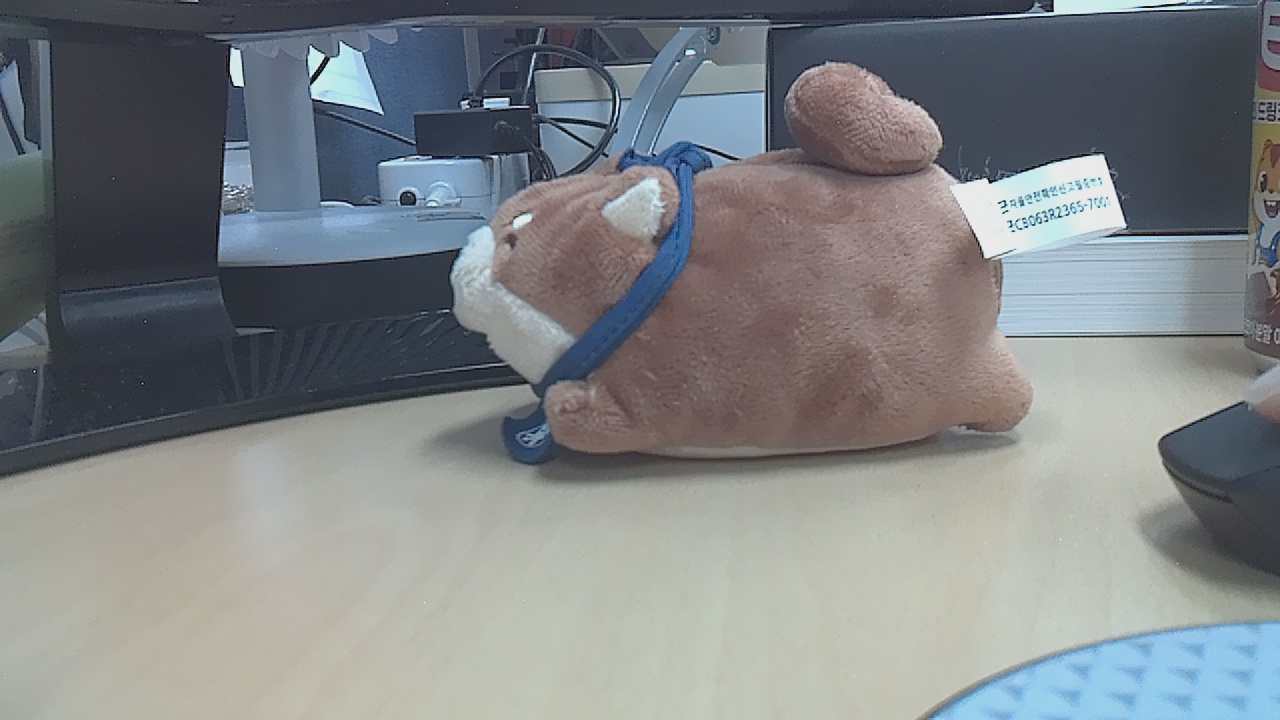cuteDog: (464, 92, 1116, 512)
